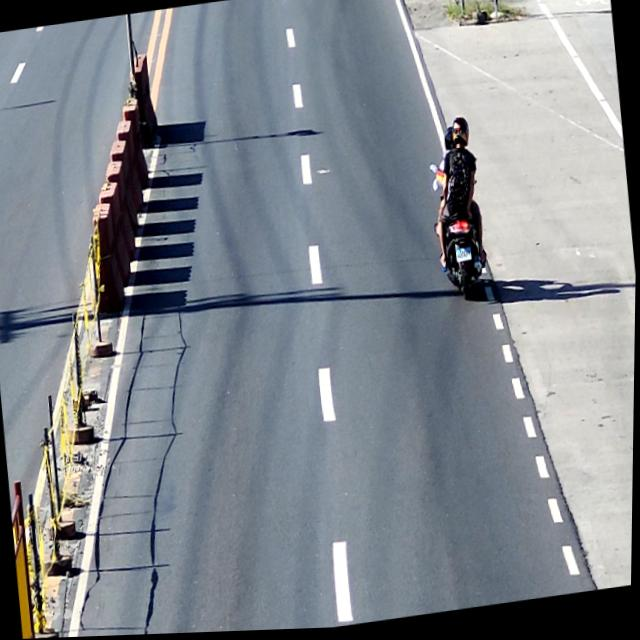License-Plate: (454, 247, 474, 266)
Motorcycle: (428, 148, 495, 314)
